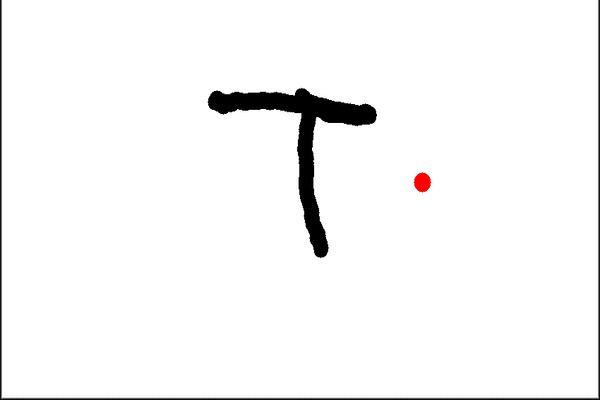T: (204, 83, 382, 260)
